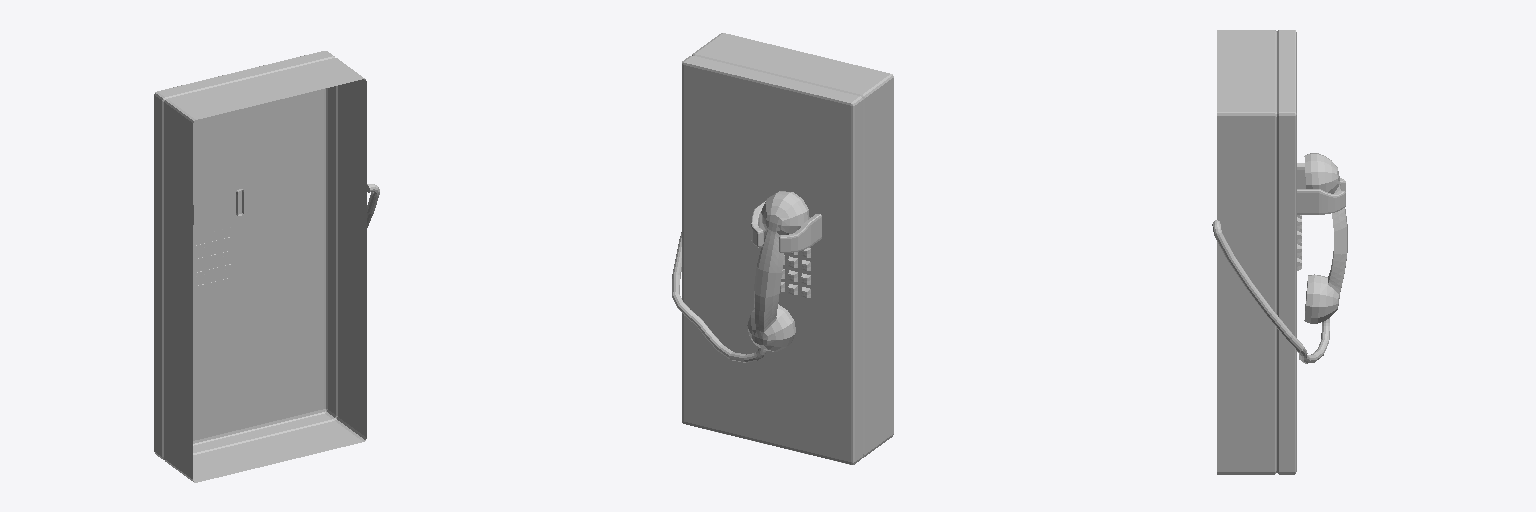
File: phone.obj
3 renders of one model, left to right at view 1: azimuth 30°, elevation 25°; view 2: azimuth 150°, elevation 25°; view 3: azimuth 270°, elevation 25°, orthographic.
Visible parts, largest first — view 1: LP; view 2: LP; view 3: LP.
Part boxes in pixels (bbox=[...]): LP: bbox=[154, 51, 379, 482]; LP: bbox=[672, 33, 893, 464]; LP: bbox=[1212, 30, 1347, 474].
Size of the model in its own units: 4.18 by 7.69 by 2.6.